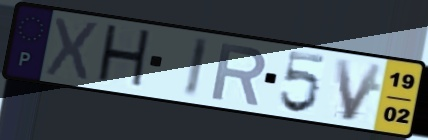5: (277, 49, 328, 115)
H: (93, 22, 154, 93)
I: (181, 35, 212, 100)
R: (208, 40, 269, 108)
V: (332, 56, 388, 124)
X: (42, 15, 103, 85)
